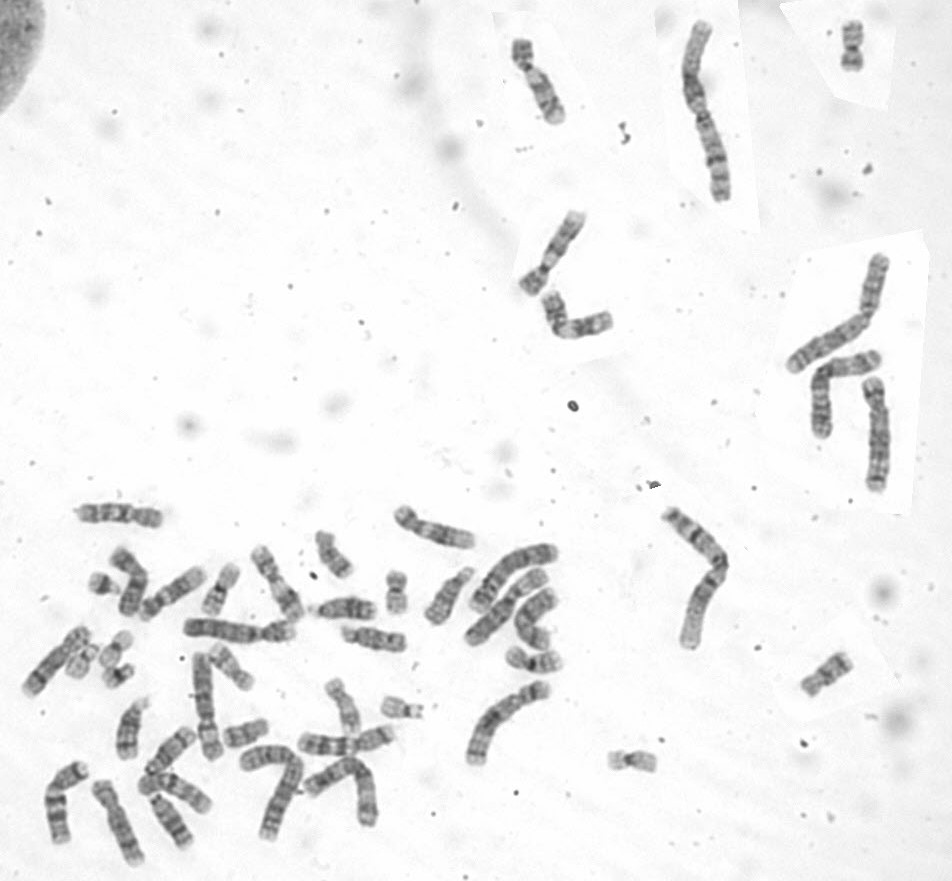A1: (677, 17, 738, 207), (663, 505, 734, 655)
A2: (782, 249, 892, 380), (239, 743, 306, 842)
A3: (807, 348, 885, 442), (302, 757, 382, 831)
B4: (469, 541, 563, 617), (181, 614, 300, 648)
B5: (463, 680, 556, 770), (859, 375, 892, 493)
C10: (134, 772, 216, 819), (73, 499, 167, 533)
C11: (251, 544, 308, 625), (540, 289, 617, 343)
C12: (134, 565, 211, 625), (391, 503, 480, 552)
C6: (460, 566, 551, 652), (189, 650, 228, 765)
C7: (41, 757, 93, 851), (295, 722, 397, 759)
C8: (18, 624, 96, 702), (89, 778, 149, 872)
C9: (519, 207, 587, 300), (505, 35, 569, 130)
D13: (146, 792, 198, 853), (307, 596, 378, 624)
D14: (112, 696, 158, 768), (143, 724, 198, 780)
D15: (419, 565, 478, 630), (337, 625, 412, 658)
E16: (199, 560, 242, 618), (505, 644, 568, 677)
E17: (208, 640, 259, 694), (321, 676, 364, 736)
E18: (797, 649, 857, 702), (312, 526, 356, 582), (219, 716, 273, 752)
F19: (604, 746, 663, 780), (97, 629, 137, 672)
F20: (837, 18, 868, 76), (382, 568, 412, 616)
G21: (85, 569, 124, 600), (101, 661, 140, 692)
G22: (62, 641, 102, 685), (376, 691, 429, 724)
X: (510, 588, 564, 652), (107, 544, 152, 619)
